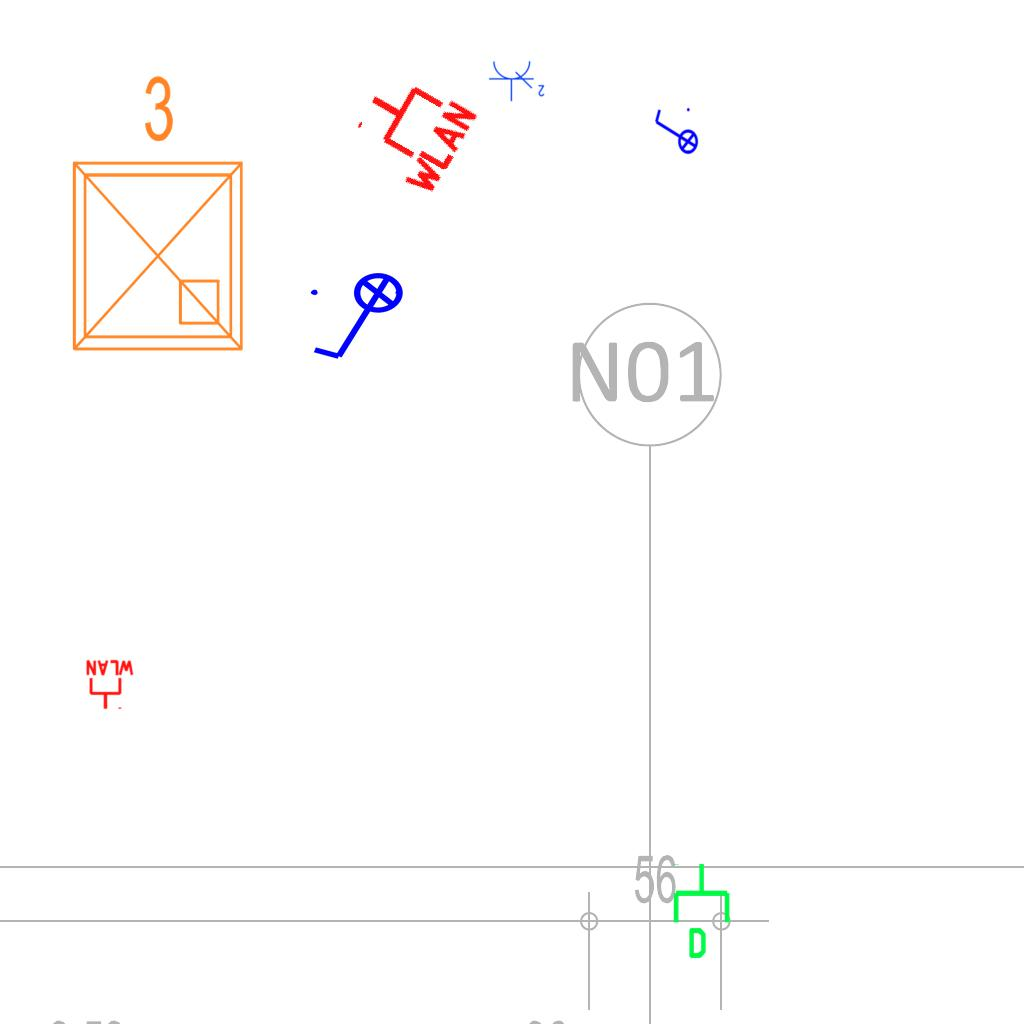Ausschalter_beleuchtet: (305, 271, 417, 367), (651, 105, 699, 161)
Datenanschluss_einfach: (669, 861, 738, 961)
Einbaudownlights_LED_Konferenzraeume: (50, 65, 258, 365)
Schukosteckdose_mehrfach: (488, 58, 548, 102)
WLAN: (339, 59, 482, 203), (84, 659, 136, 711)
